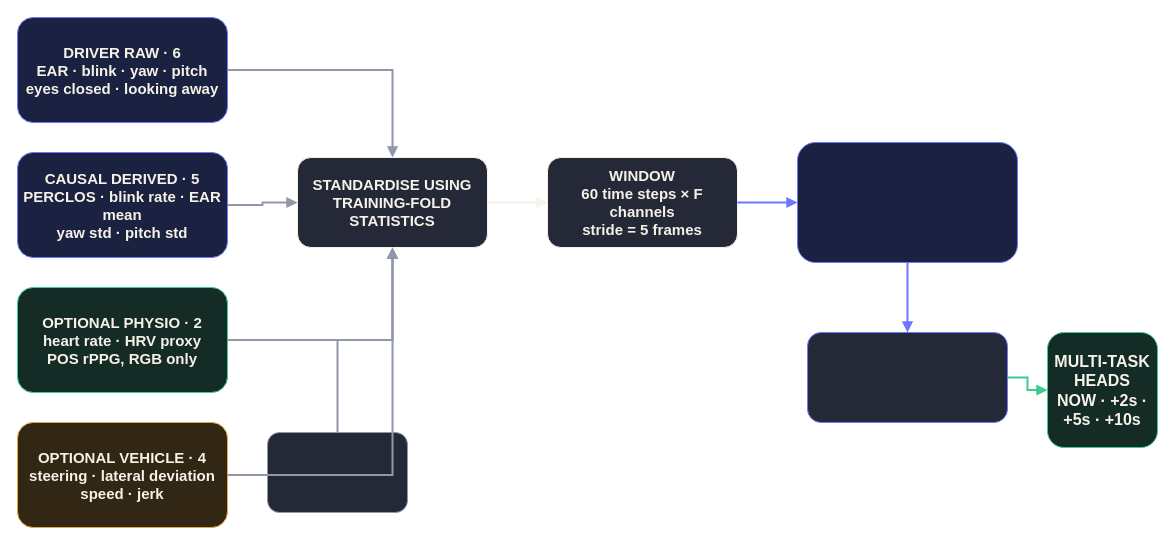
This 1175x545 diagram has some shape labels left out. The box of each missing label's shape, as (x1, y1, x2, y2) in pixels:
FUSION EMBEDDING φ(x) concatenate → linear → ReLU: (806, 332, 1008, 422)
MODALITY ENCODERS Conv1D → Conv1D → GRU modality dropout during training: (796, 142, 1018, 262)
SCENE · 1 complexity: (266, 432, 408, 512)
